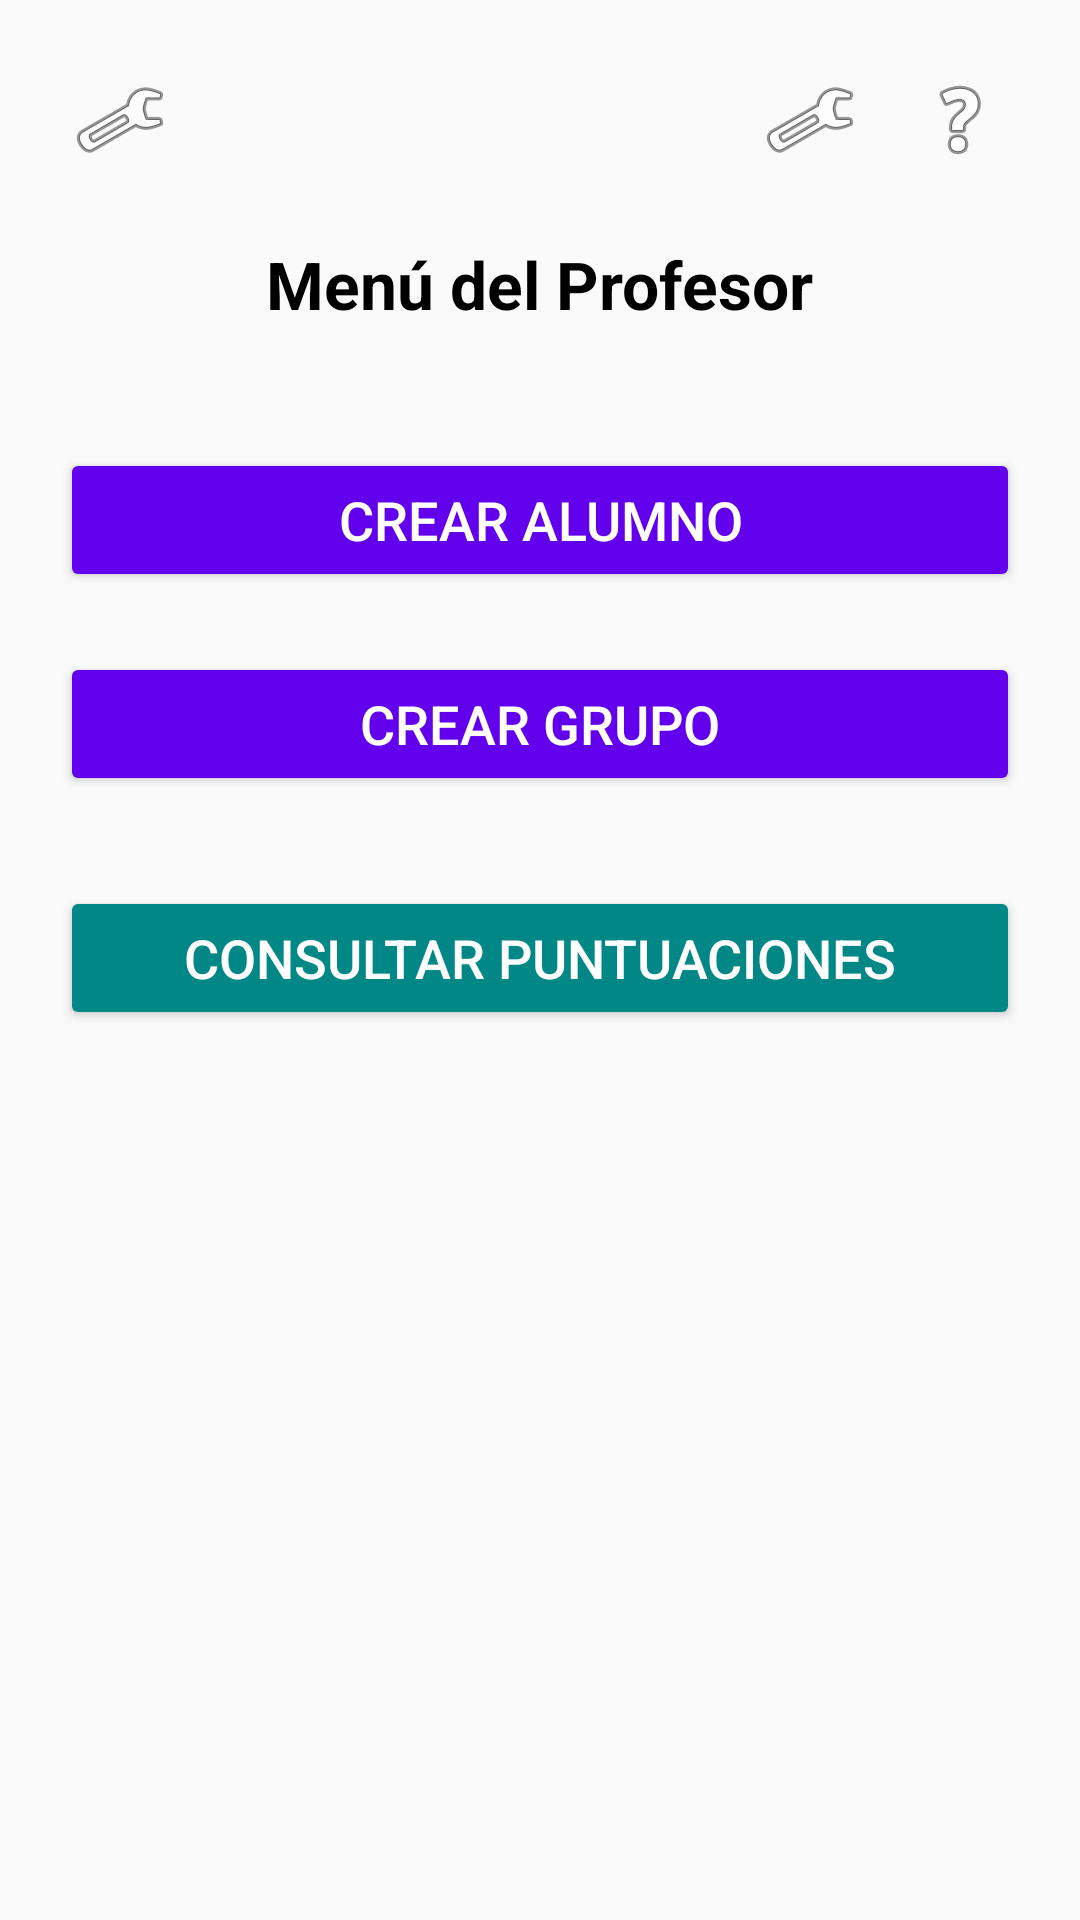

Screen size 1080px×1920px. Icon name, then its box in pixels as (x1, y1, x2, y2):
Botón de ayuda: (939, 86, 981, 154)
configuracion: (77, 87, 163, 153)
